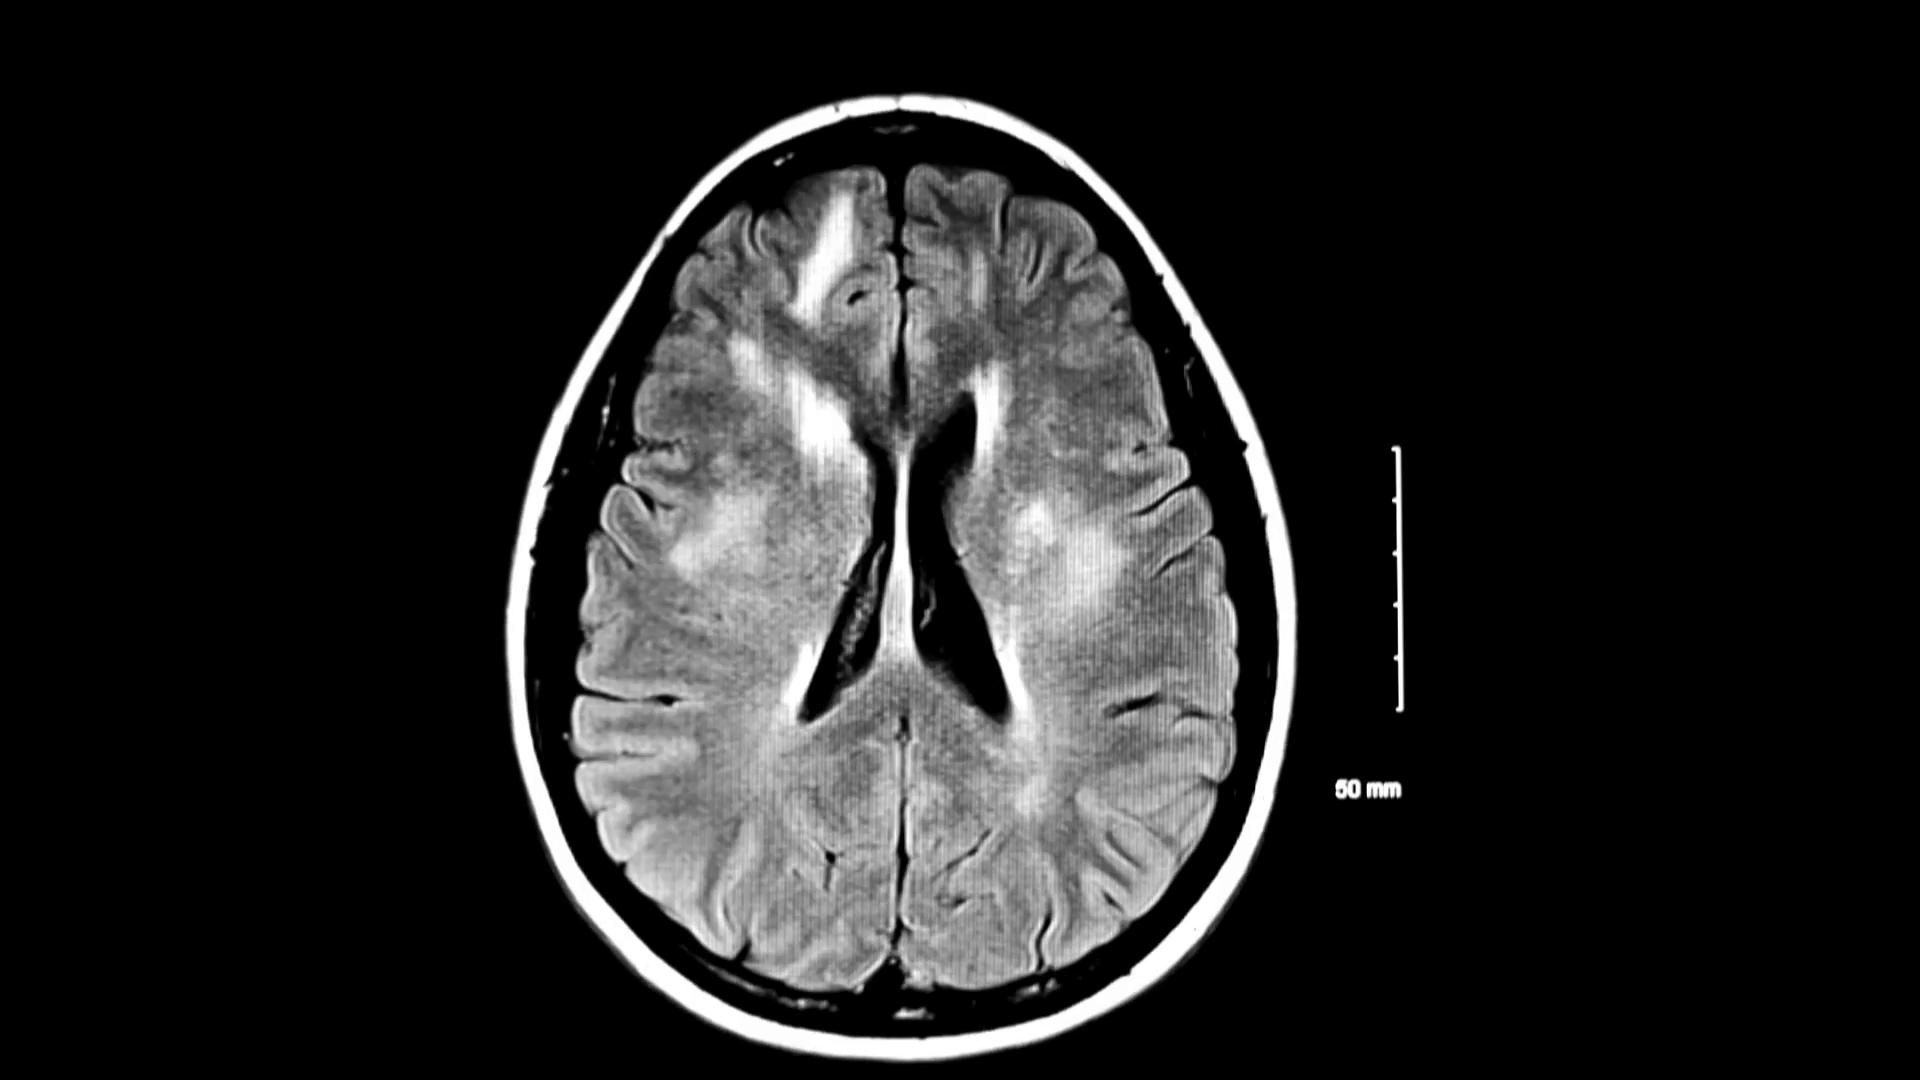Normal_Brain: (1, 9, 1920, 1080)
